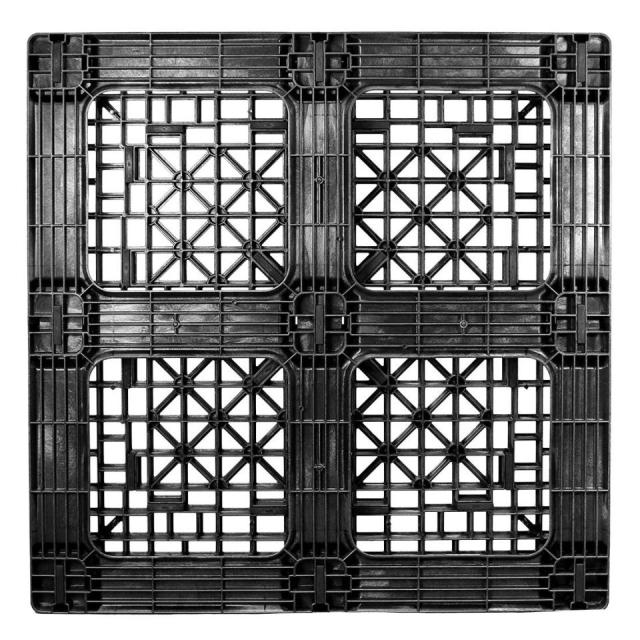non-igps: (18, 21, 623, 624)
